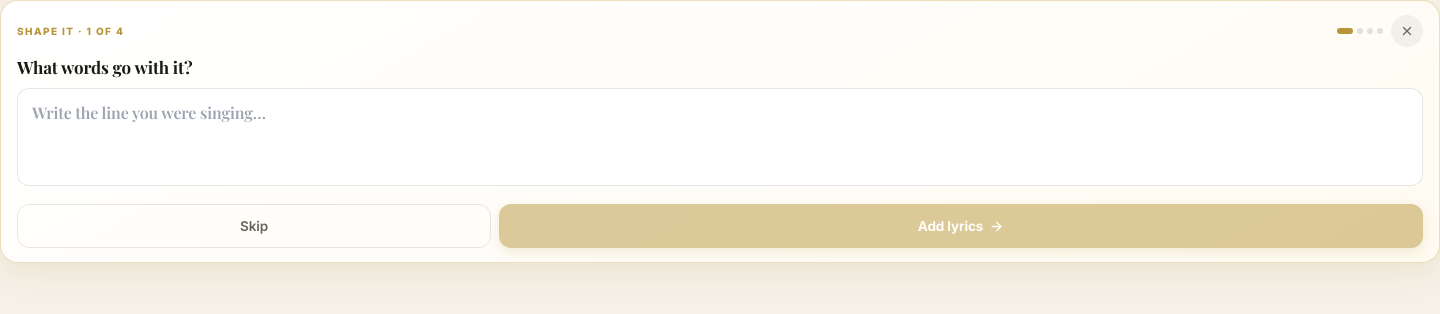
it: GuidedShapeRail — the guided path from a fresh idea to its home › a section the take already holds shows as done and never duplicates
Click the button "Skip" at (254, 226), box x1=17 y1=204 x2=491 y2=248
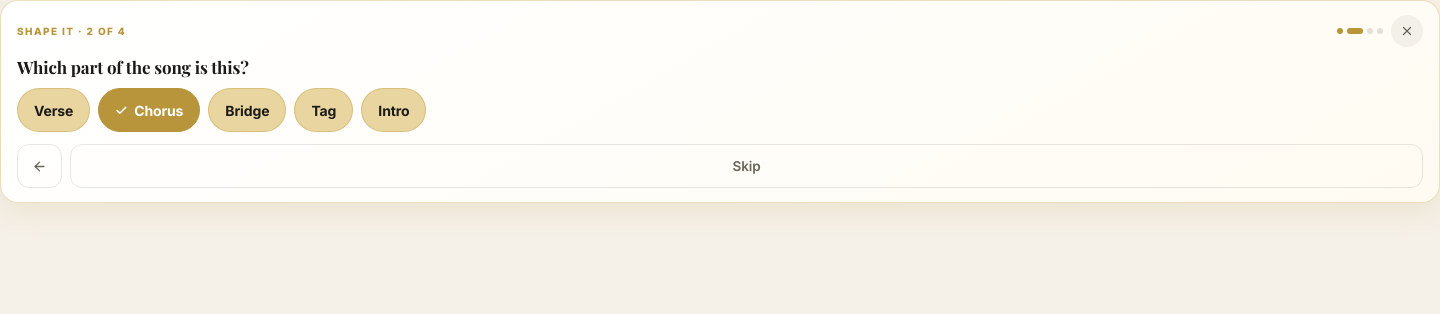
Click the button with aria-label "chorus — already in this take" at (149, 110), box x1=98 y1=88 x2=200 y2=132
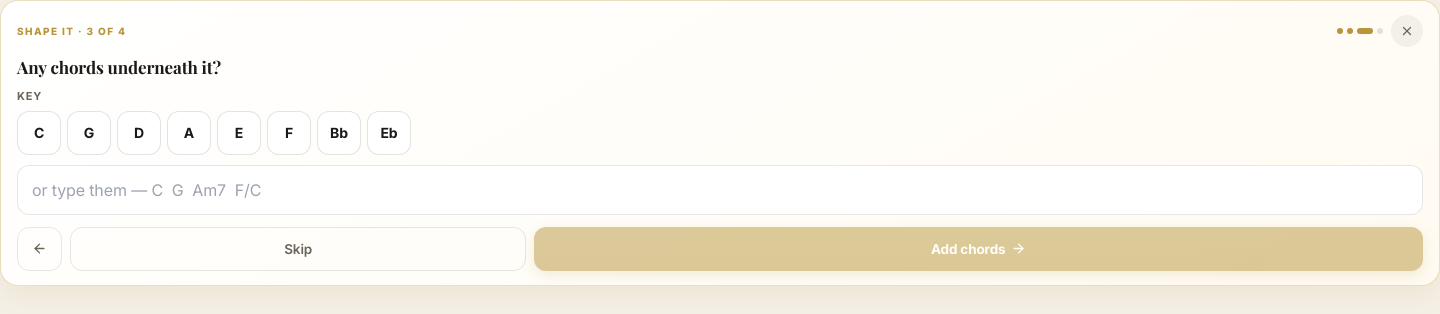
Check: the text "Shape it · 3 of 4" is shown, box x1=17 y1=24 x2=126 y2=36
